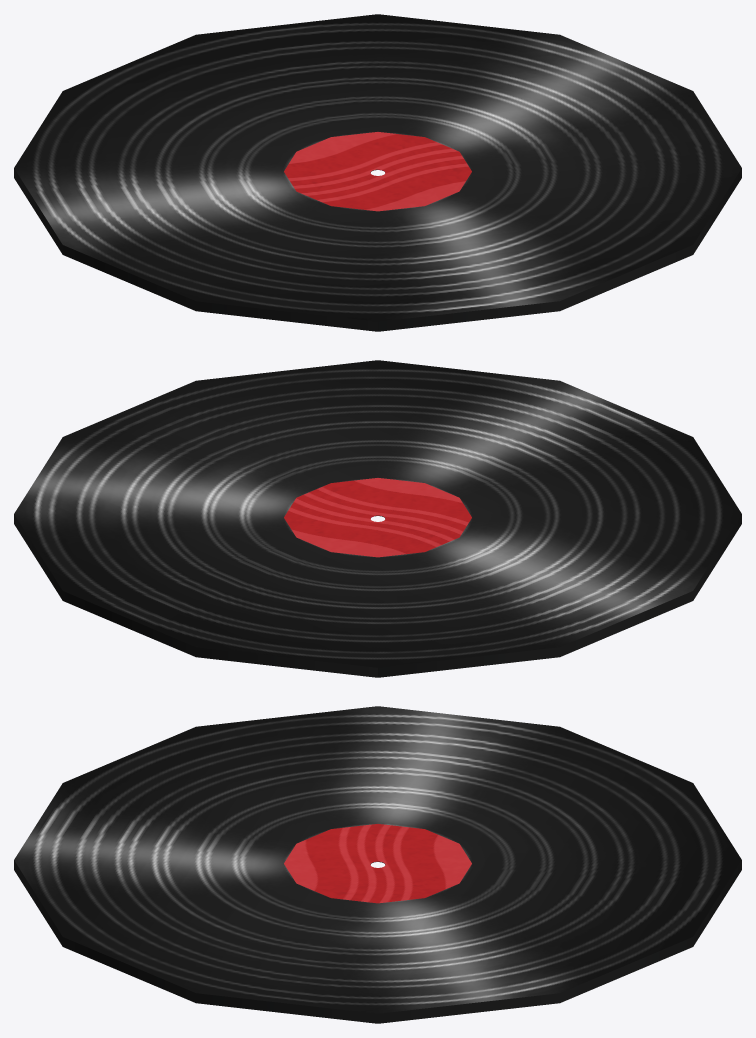
The model's file is Vinyl_03.FBX.
3 renders of one model, top to bottom at view 1: azimuth 30°, elevation 25°; view 2: azimuth 150°, elevation 25°; view 3: azimuth 270°, elevation 25°, orthographic.
Visible parts, largest first — view 1: Vinyl; view 2: Vinyl; view 3: Vinyl.
Boxes of the visible parts, box(x1,y1,x2,y2) form: Vinyl: box(14, 14, 741, 331); Vinyl: box(14, 360, 741, 677); Vinyl: box(14, 706, 741, 1023).
Bounding box in the file's own units: 147 × 2.23 × 147.
